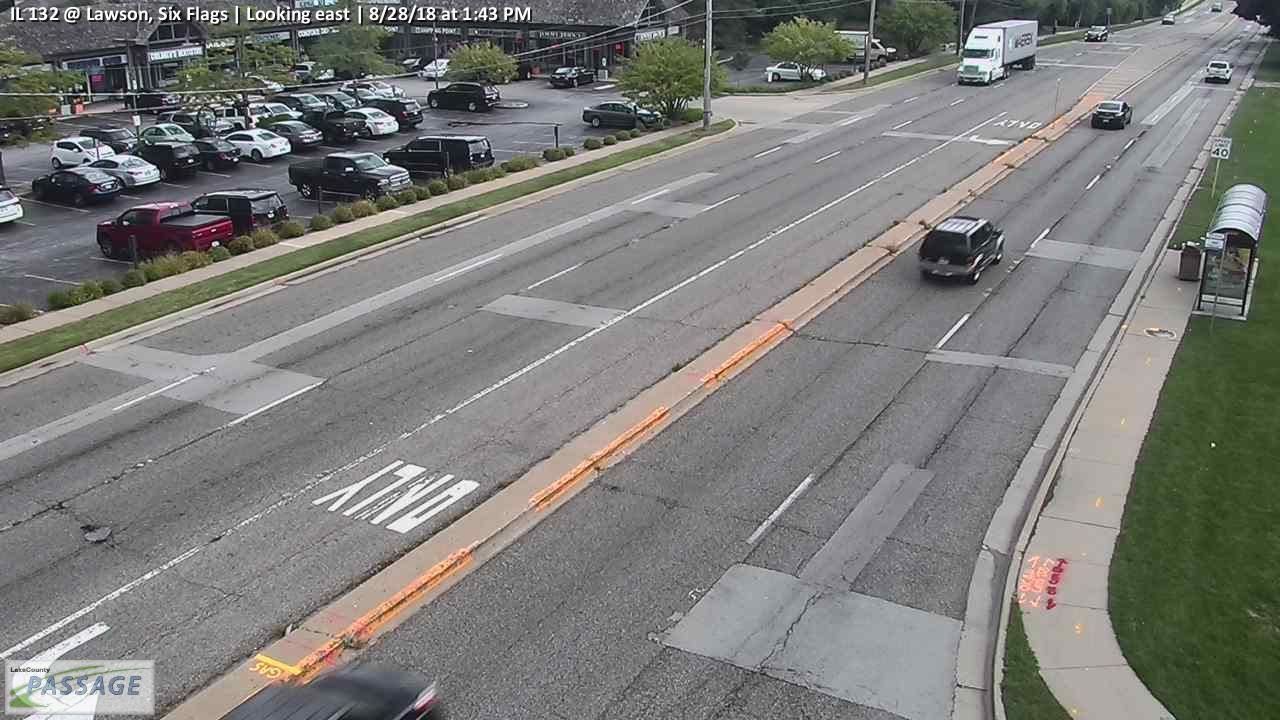SUV: (916, 213, 1006, 284), (379, 133, 497, 182), (184, 186, 291, 240), (129, 140, 204, 181), (299, 108, 363, 144), (426, 81, 502, 111), (361, 95, 425, 128), (205, 104, 272, 133), (154, 107, 211, 138), (337, 80, 406, 104), (266, 93, 335, 116)
Sedan: (286, 150, 414, 205), (31, 167, 123, 206), (75, 155, 160, 191), (217, 127, 293, 162), (582, 99, 662, 130), (183, 136, 242, 173), (76, 125, 142, 158), (49, 137, 115, 169), (256, 120, 325, 150), (338, 107, 400, 137), (1089, 98, 1134, 130), (765, 60, 826, 83), (309, 90, 361, 112), (547, 64, 595, 86), (421, 57, 464, 79), (1206, 59, 1232, 83), (1082, 24, 1109, 40), (1161, 13, 1176, 25)
Truck: (96, 199, 235, 264), (955, 18, 1040, 85), (827, 28, 889, 66)
